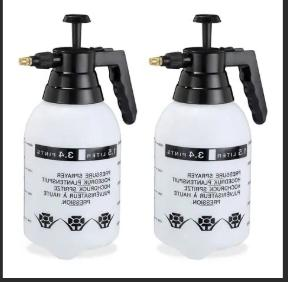PULVERISATEUR: (4, 10, 269, 272)
